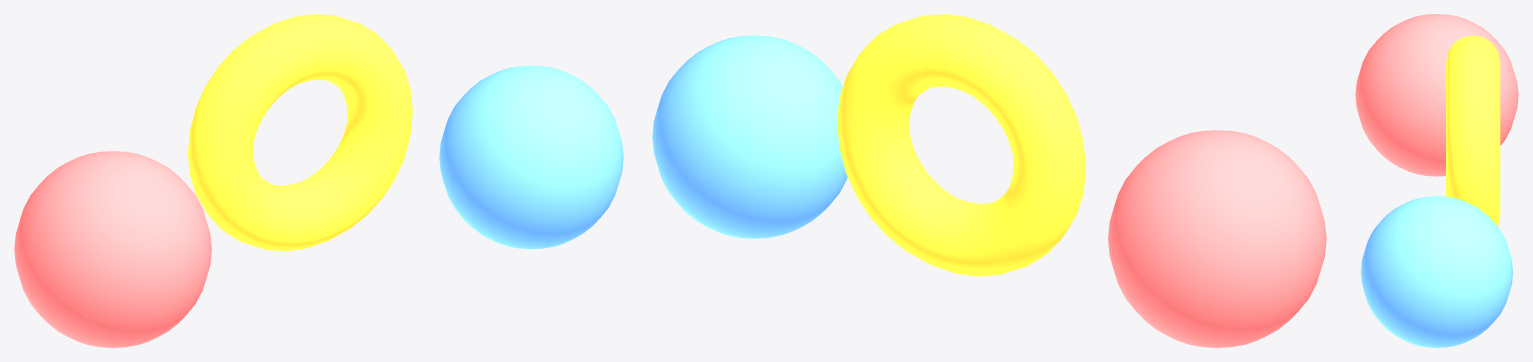
The model's file is garden-colors.glb.
The picture shows the model from 3 angles, left to right: view 1: azimuth 30°, elevation 25°; view 2: azimuth 150°, elevation 25°; view 3: azimuth 270°, elevation 25°; orthographic projection. The views are drawn at different scales.
Parts seen in each view (by area): view 1: Yellow_Flower, Red_Apple, Blue_Ball; view 2: Yellow_Flower, Red_Apple, Blue_Ball; view 3: Blue_Ball, Red_Apple, Yellow_Flower.
Part boxes in pixels (x1,y1,x2,y2): Yellow_Flower: (188, 14, 412, 251); Red_Apple: (14, 151, 211, 347); Blue_Ball: (439, 65, 623, 249); Yellow_Flower: (837, 14, 1085, 276); Red_Apple: (1108, 130, 1326, 347); Blue_Ball: (652, 35, 847, 238); Blue_Ball: (1361, 196, 1512, 347); Red_Apple: (1355, 14, 1518, 176); Yellow_Flower: (1446, 35, 1500, 225).
Size of the model in its own units: 3.07 by 1.29 by 0.9.
